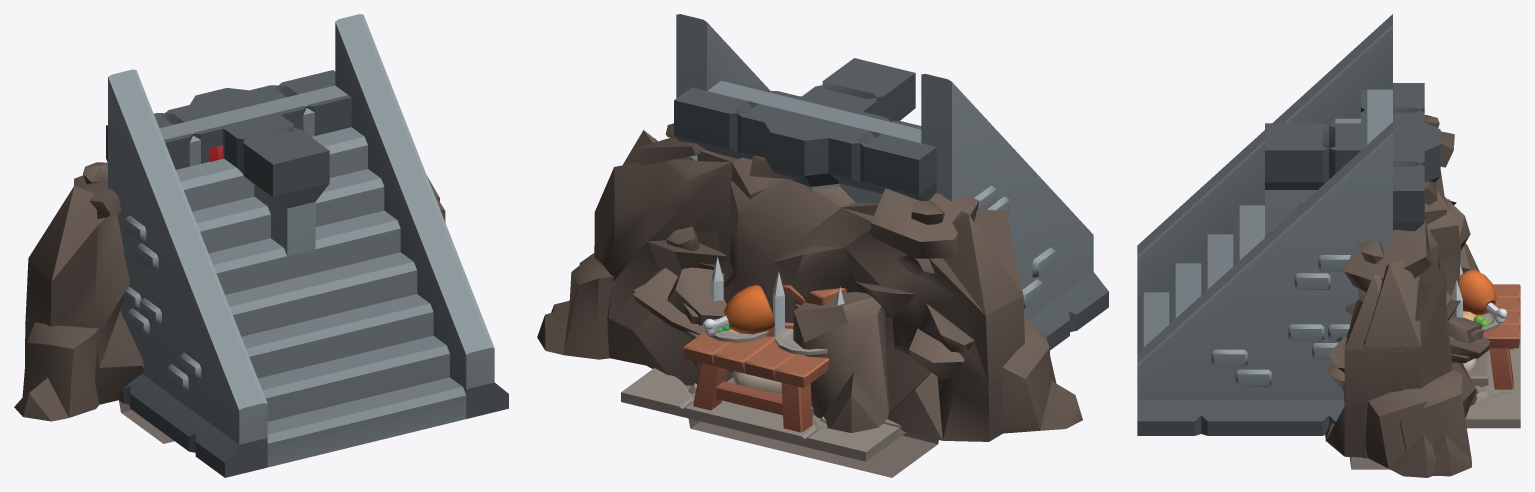
File: dungeon.glb
3 renders of one model, left to right at view 1: azimuth 30°, elevation 25°; view 2: azimuth 150°, elevation 25°; view 3: azimuth 270°, elevation 25°, orthographic. The views are drawn at different scales.
Parts seen in each view (by area): view 1: stairs, rubble_large, wall_corner, wall_arched, pillar, floor_tile_grate; view 2: rubble_large, rubble_half, stairs, table_long_decorated_A, wall, wall_arched, Cube.14376, wall_corner, floor_tile_grate, pillar, floor_tile_large, spikes (+3 smaller); view 3: stairs, rubble_half, rubble_large, wall_corner, table_long_decorated_A, wall_arched, Cube.14376, wall, pillar, bed_floor, floor_dirt_large, pillar_decorated.
Part boxes in pixels (box(x1,y1,x2,y2)): stairs: box(108, 14, 508, 477); rubble_large: box(14, 162, 445, 421); wall_corner: box(189, 115, 329, 255); wall_arched: box(106, 70, 351, 169); pillar: box(209, 88, 281, 158); floor_tile_grate: box(119, 400, 174, 443); rubble_large: box(551, 138, 1082, 441); rubble_half: box(537, 123, 770, 385); stairs: box(676, 14, 1108, 350); table_long_decorated_A: box(683, 285, 829, 432); wall: box(674, 91, 936, 200); wall_arched: box(674, 78, 936, 200); Cube.14376: box(621, 368, 901, 460); wall_corner: box(801, 58, 922, 203); floor_tile_grate: box(688, 418, 938, 477); pillar: box(764, 96, 863, 188); floor_tile_large: box(621, 392, 903, 461); spikes: box(711, 257, 844, 336); stairs: box(1137, 14, 1392, 435); rubble_half: box(1343, 200, 1489, 476); rubble_large: box(1325, 115, 1490, 477); wall_corner: box(1265, 107, 1415, 235); table_long_decorated_A: box(1459, 269, 1520, 389); wall_arched: box(1361, 83, 1424, 231); Cube.14376: box(1465, 312, 1520, 421); wall: box(1361, 83, 1424, 231); pillar: box(1345, 123, 1440, 182); bed_floor: box(1463, 350, 1488, 387); floor_dirt_large: box(1466, 389, 1520, 428); pillar_decorated: box(1345, 129, 1440, 182).
Size of the model in its own units: 8.13 by 6.08 by 6.
1 material, 1 textured.
